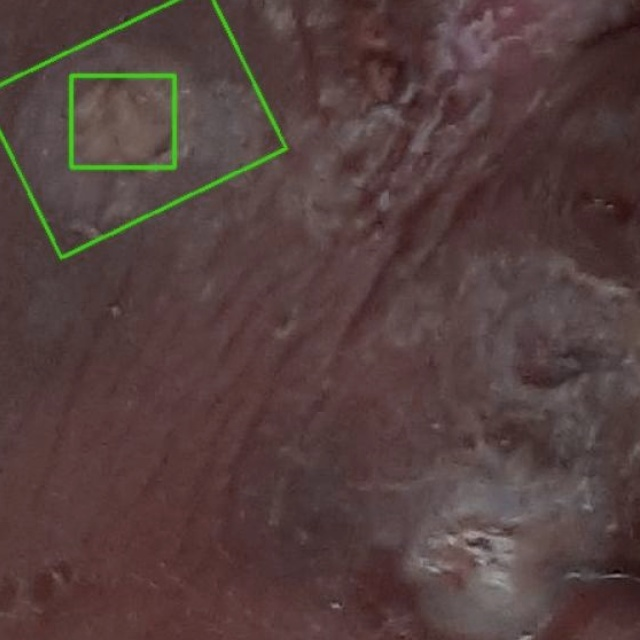Eczema: (0, 0, 285, 257), (71, 75, 174, 167)
